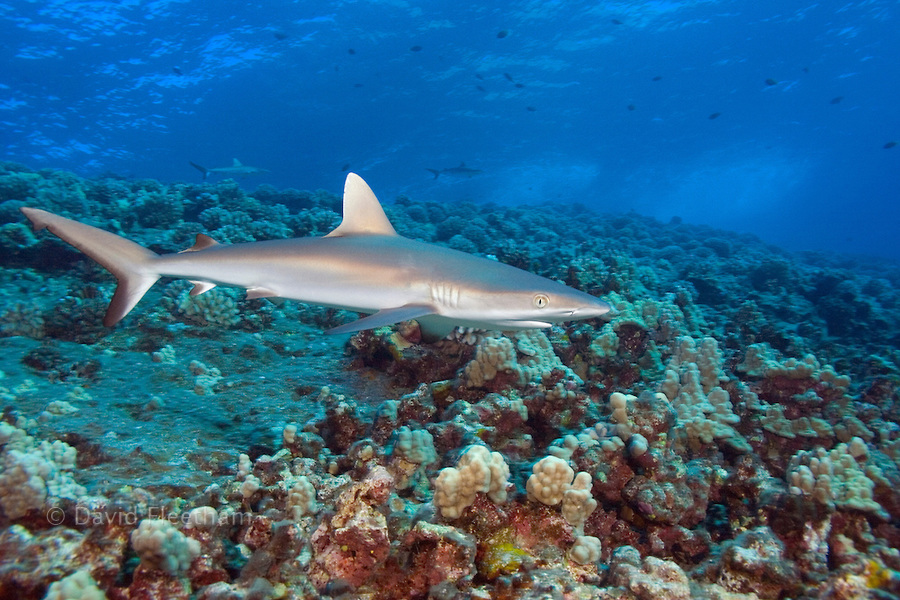Carcharhinus_amblyrhynchos: (3, 170, 634, 363)
